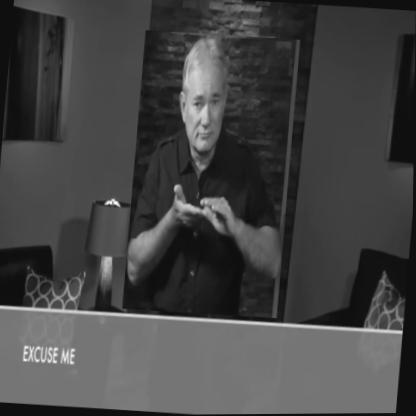ExcuseMe: (123, 30, 301, 320)
